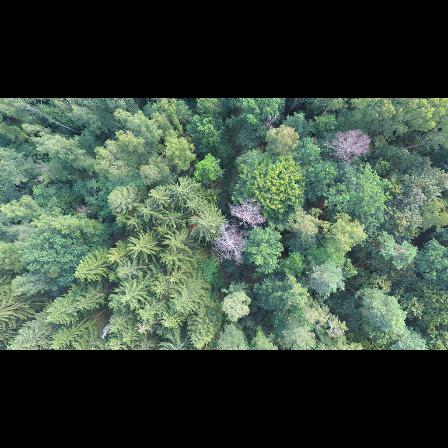Dead: (323, 126, 373, 161), (228, 195, 269, 225), (215, 226, 248, 263)
